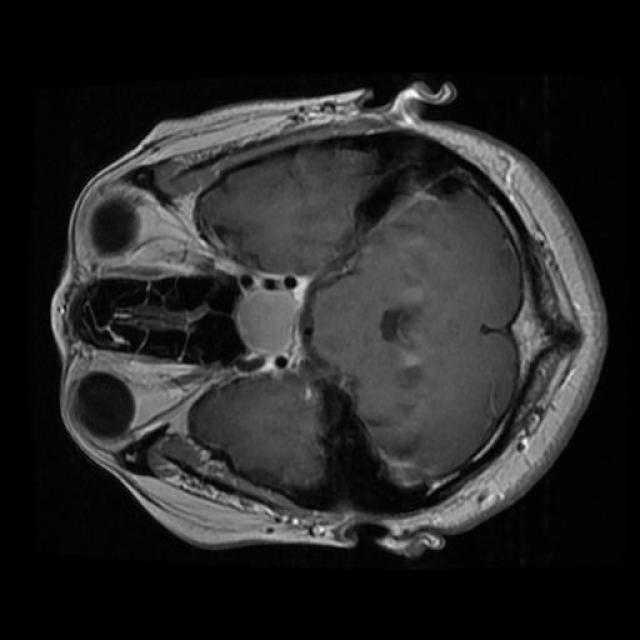Pituitary: (232, 273, 310, 372)
